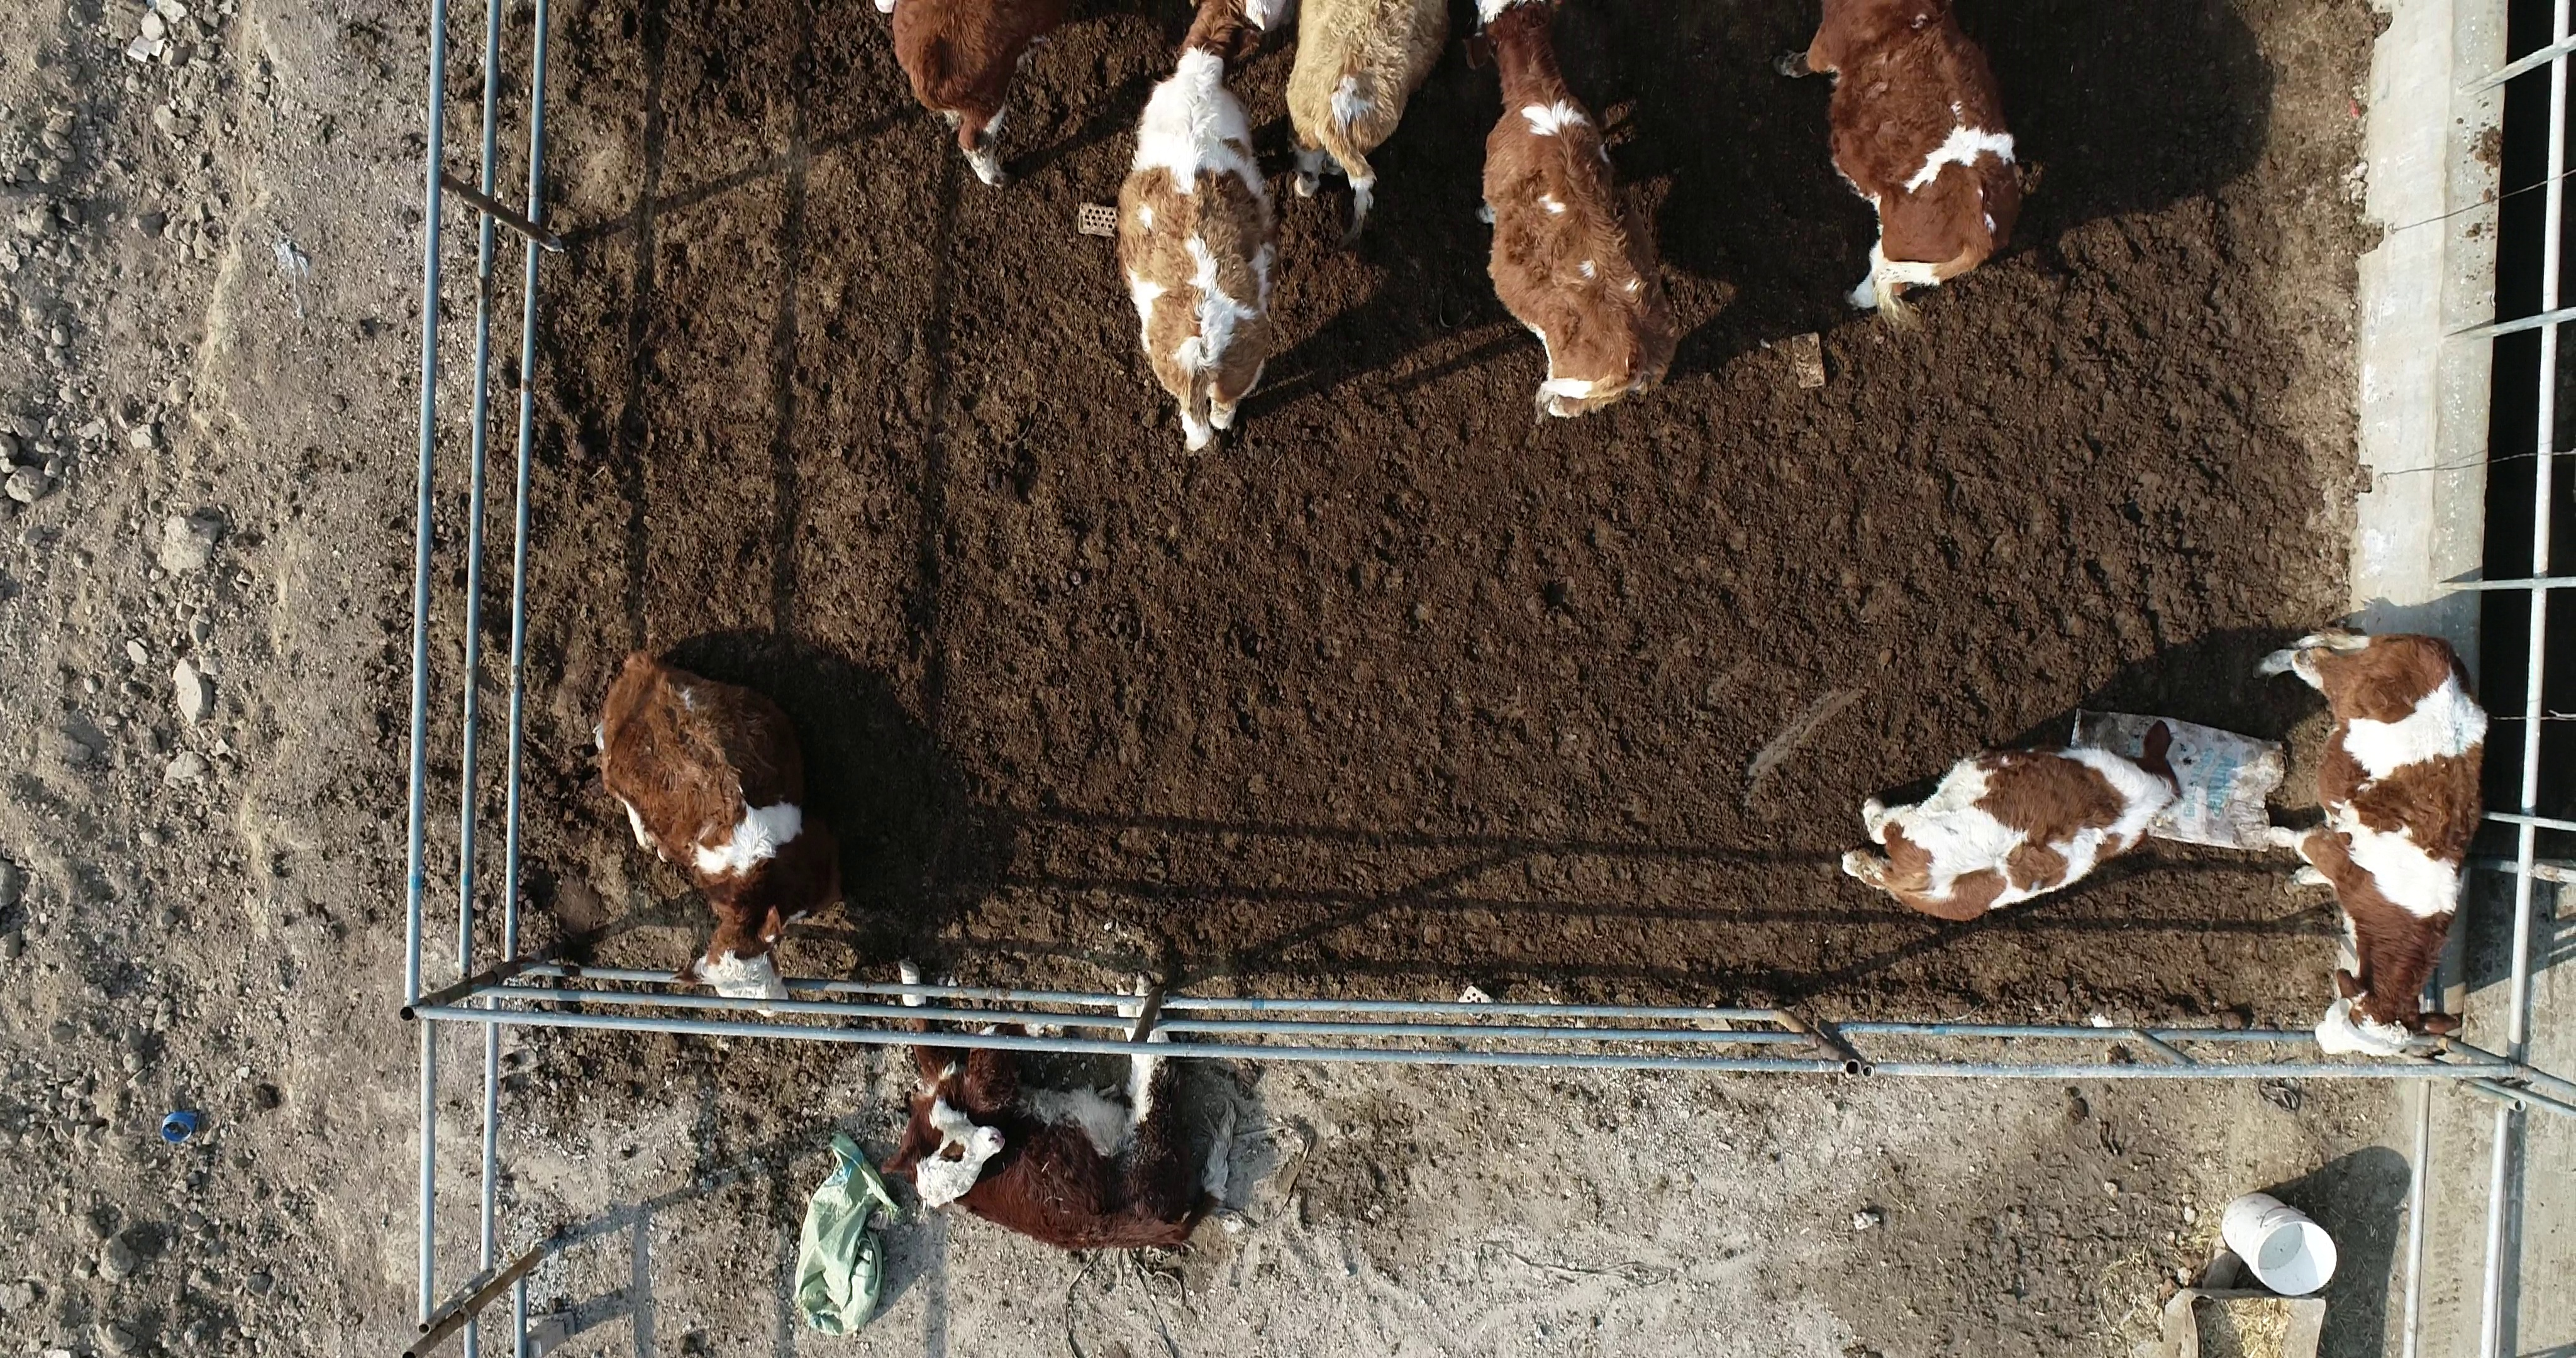cattle: (2232, 613, 2496, 1065), (581, 641, 854, 1027), (1463, 0, 1690, 434), (1111, 2, 1293, 463), (1833, 719, 2194, 927)
